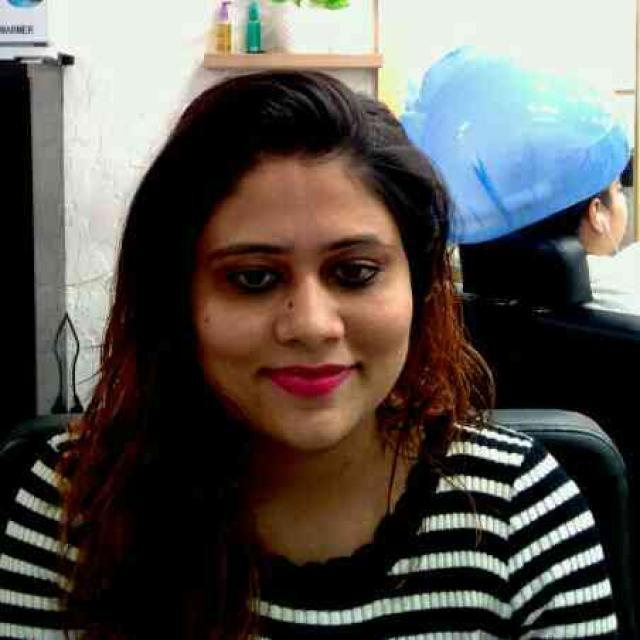puffy_eyes: (219, 265, 295, 299)
